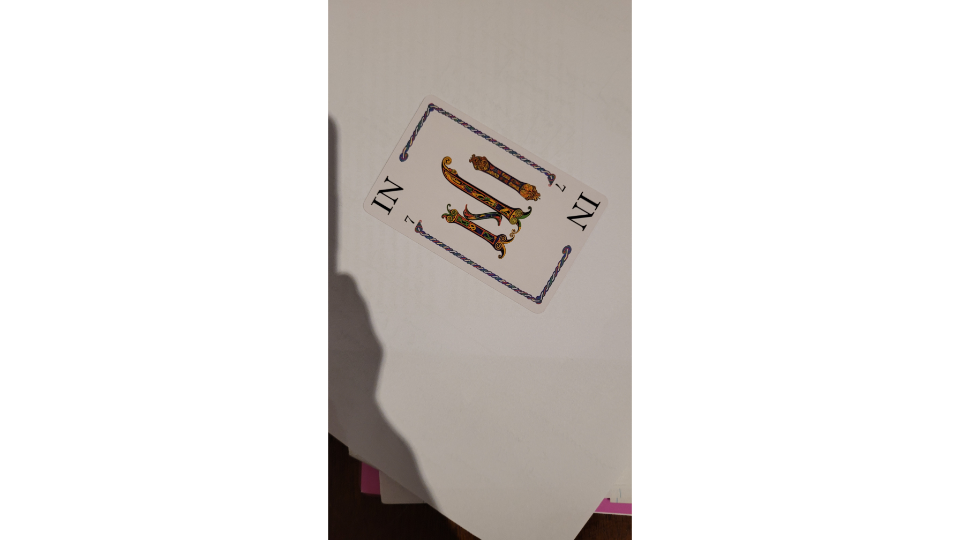IN: (361, 94, 610, 316)
